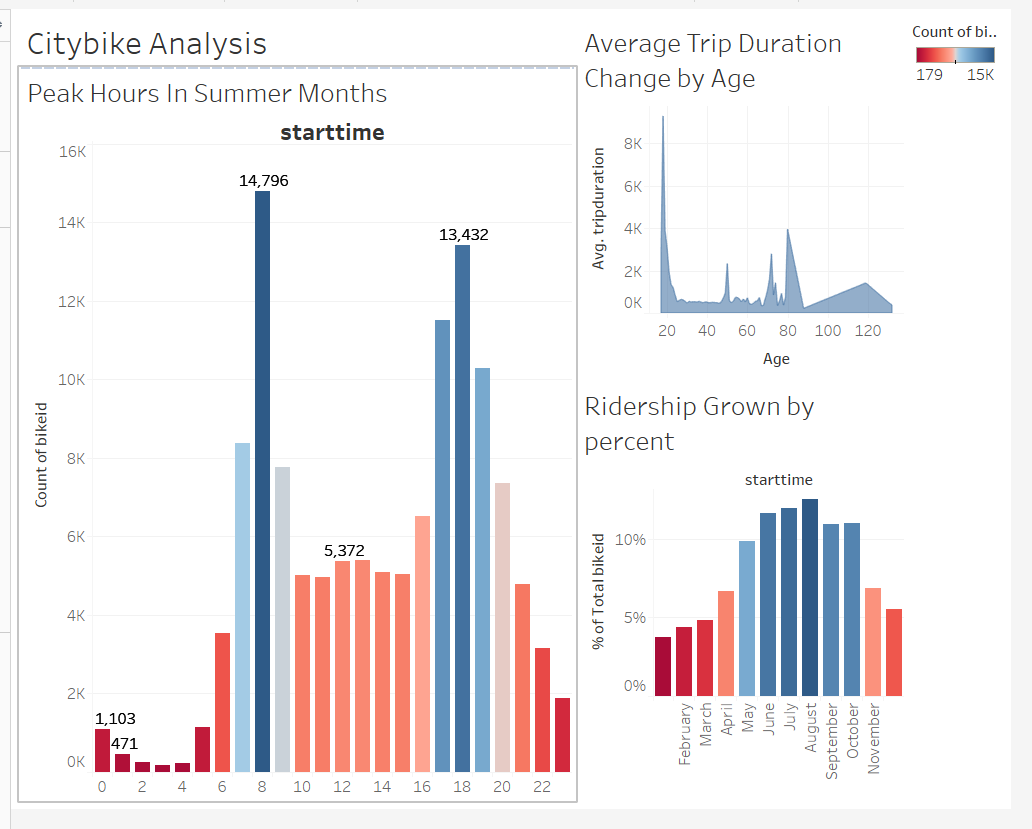

This screenshot's page, from the dashboard's own definition file:
{"tool":"tableau","page":{"name":"Dashboard_citybike","canvas":[1000,800],"ordinal":0},"visuals":[{"type":"title","box":[8,8,556.9,50]},{"type":"worksheet","title":"Average Trip Duration Change by Age ","mark":"Area","rows":["tripduration"],"cols":["Calculation_1197113124414427136"],"box":[564.9,8,332,363.5]},{"type":"legend","title":"Peak Hours In Summer Months","param":"[federated.10pu7fp1noae2k1c9e16r0h8xgzh].[cnt:bikeid:qk]","box":[897,8,95,73]},{"type":"worksheet","title":"Peak Hours In Summer Months","mark":"Bar","rows":["bikeid"],"cols":["starttime"],"box":[8,58,556.9,734]},{"type":"worksheet","title":"Ridership Grown by percent","mark":"Bar","rows":["bikeid"],"cols":["starttime"],"box":[564.9,371.5,332,420.5]}]}

Visuals, with their boxes in screenshot pixels (x1, y1, x2, y2), scaled from the page's 1000x800 canvas onto the 1032x829 screenshot:
title: box(8, 8, 583, 60)
"Average Trip Duration Change by Age " worksheet (Area marks): box(583, 8, 926, 385)
"Peak Hours In Summer Months" legend: box(926, 8, 1024, 84)
"Peak Hours In Summer Months" worksheet (Bar marks): box(8, 60, 583, 821)
"Ridership Grown by percent" worksheet (Bar marks): box(583, 385, 926, 821)
